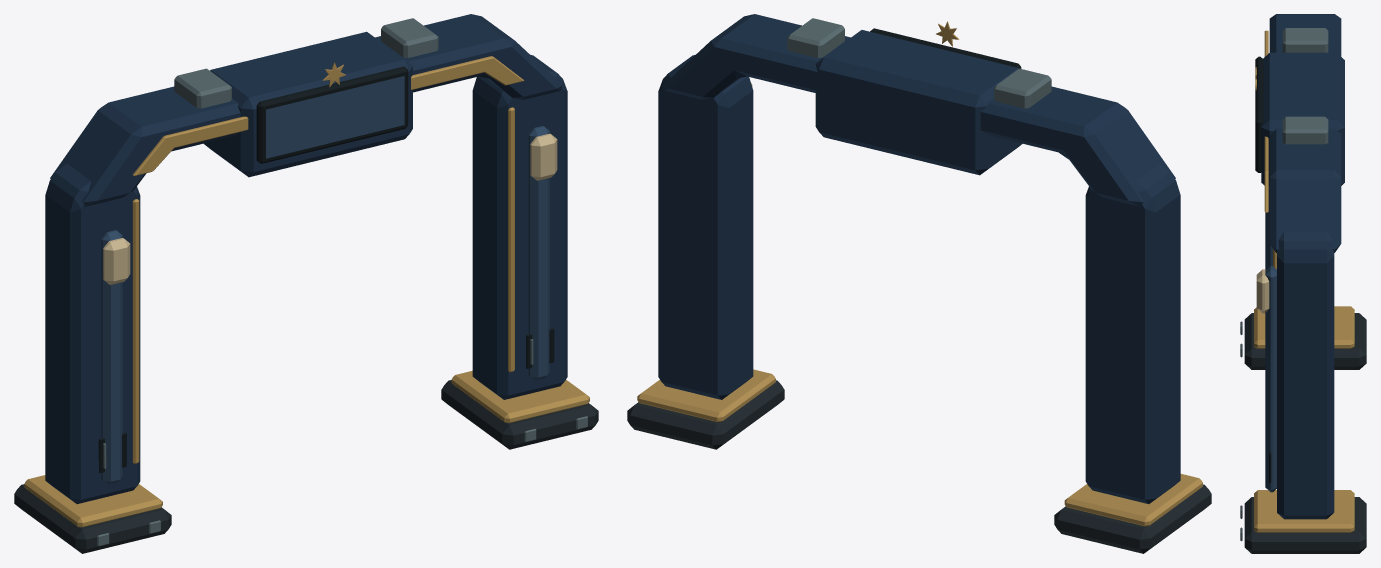
File: LANDING_GATE_FRAME.lo.glb
3 views of the same model, side by side, from view 1: azimuth 30°, elevation 25°; view 2: azimuth 150°, elevation 25°; view 3: azimuth 270°, elevation 25° (orthographic). The views are drawn at different scales.
Parts seen in each view (by area): view 1: Body_Mesh, SignSurface; view 2: Body_Mesh; view 3: Body_Mesh.
Part boxes in pixels (x1=…): Body_Mesh: x1=14, y1=14, x2=598, y2=553; SignSurface: x1=266, y1=76, x2=404, y2=158; Body_Mesh: x1=627, y1=14, x2=1211, y2=553; Body_Mesh: x1=1240, y1=14, x2=1366, y2=553.
Size of the model in its own units: 4.46 by 3.48 by 1.05.
